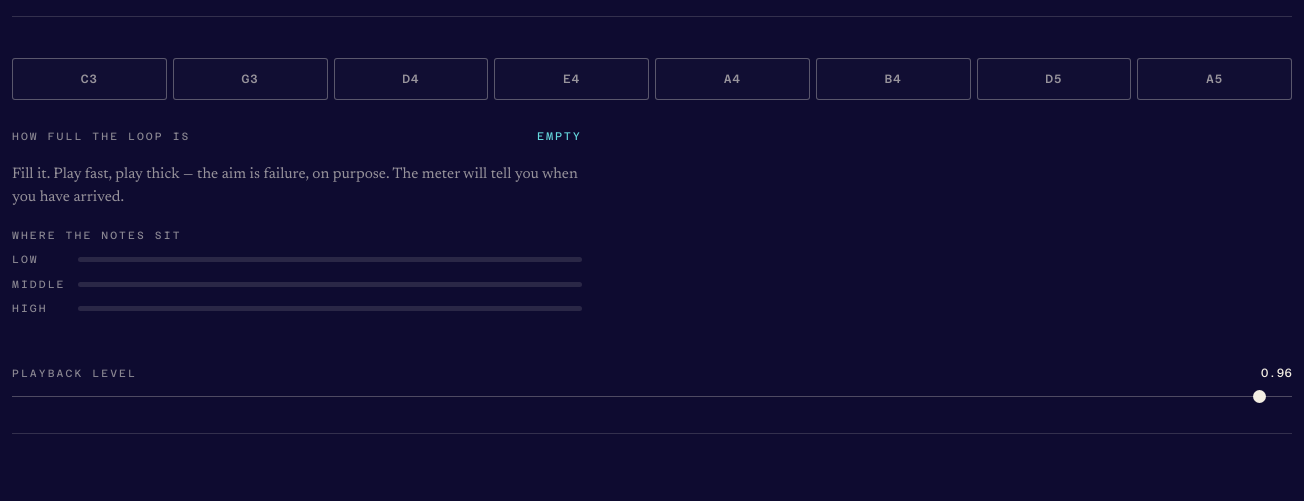
Scenario: AvoidingMud › clearing is heard: release, thin out, and the card says both directions
Step 1. Press the mouse on the button "C3" → (89, 79), box x1=12 y1=58 x2=167 y2=100
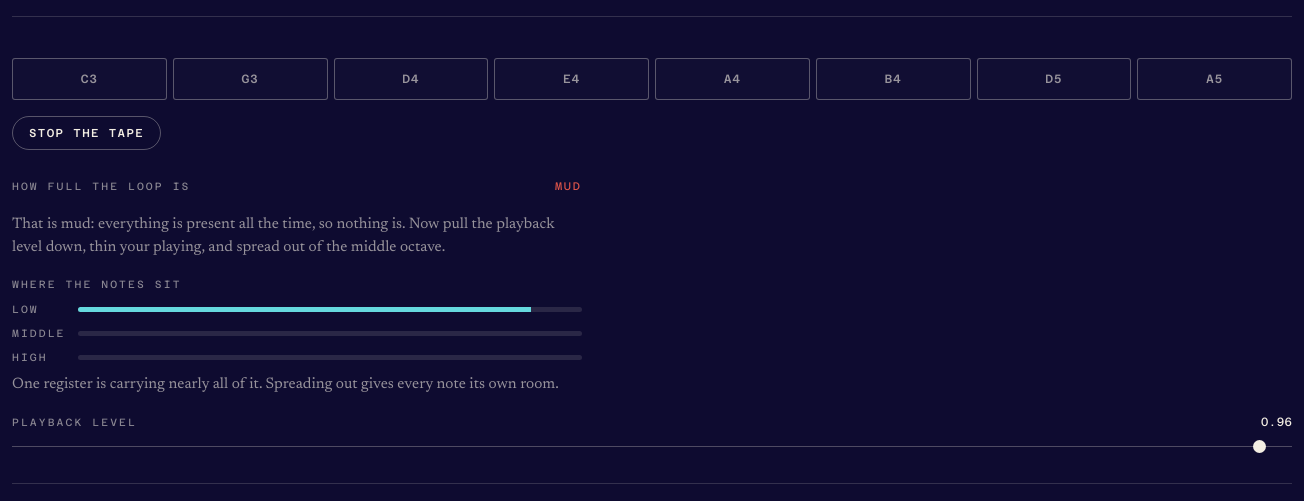
Now the text "That is mud" is shown, box x1=12 y1=217 x2=555 y2=254
Step 2. Set the slider labelled "Playback level 0.96" to "0.3" → (407, 446), box x1=12 y1=435 x2=1292 y2=457
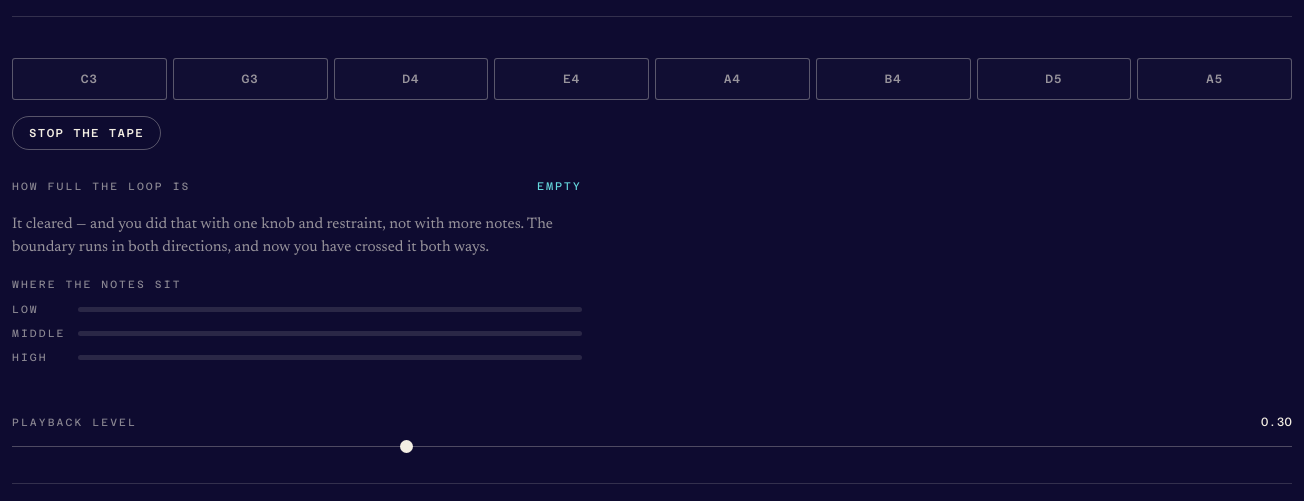
Now the text "crossed it both ways" is shown, box x1=12 y1=217 x2=553 y2=254
